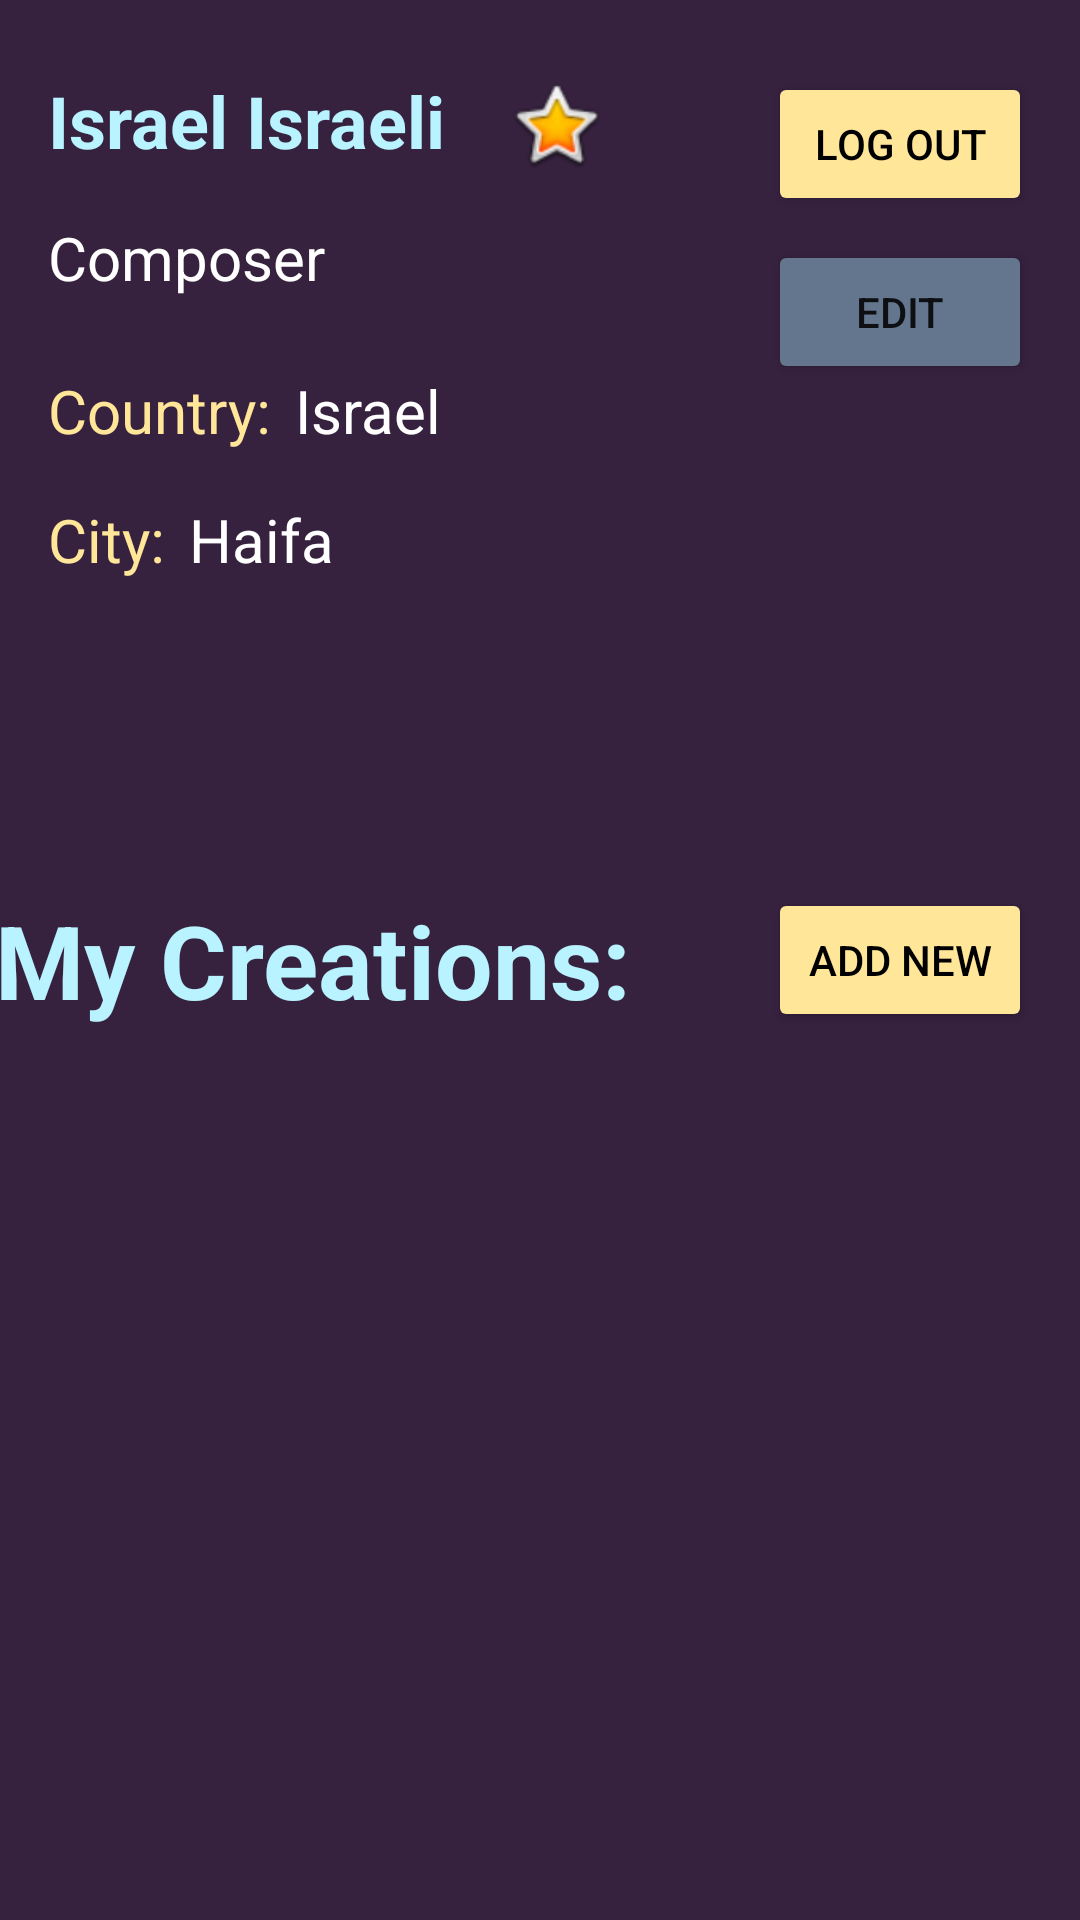

Icon click points for this 1080x1920 phone screenshot, format [x,y]:
star on: [557,124]
